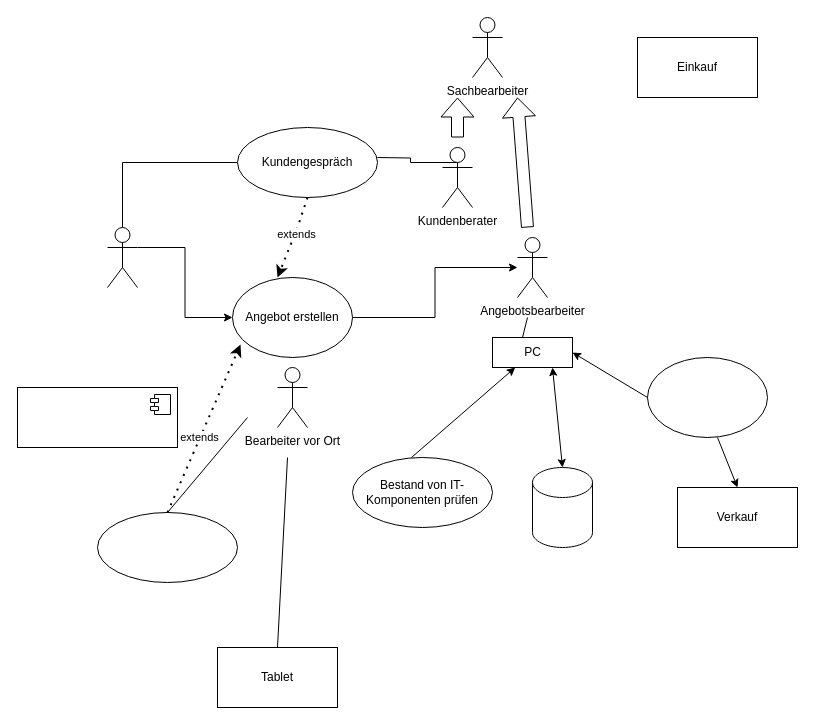
Image size: 815x725. Some labels were removed from this diagram. Here are the shapes that lost their labels. From the top down, the centre of each, then its label:
point 122,257: Kunde
point 97,417: Bedingung: Grundriss existiert noch nicht
point 707,397: Angebotsdokument erstellen
point 562,507: Datenbank
point 167,547: Grundriss erstellen
